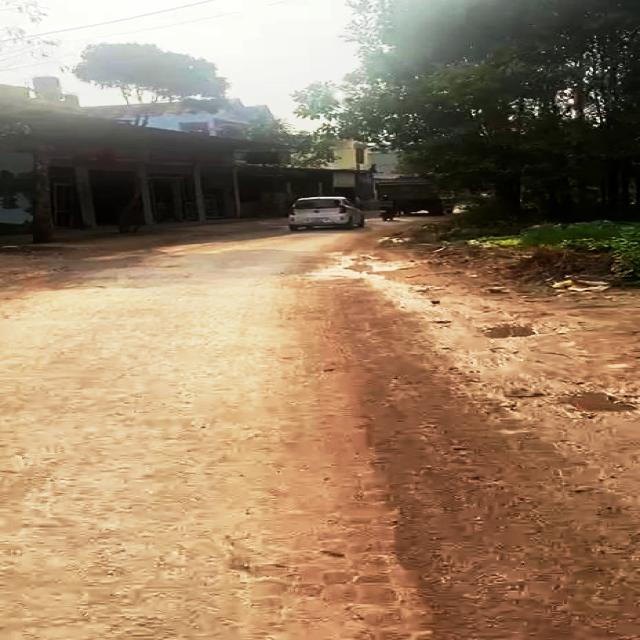pothole: (549, 386, 640, 421), (472, 319, 549, 343)
